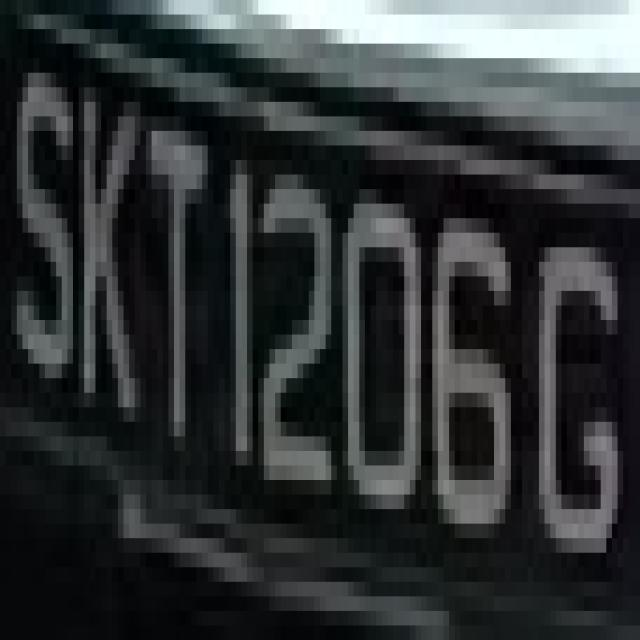0: (320, 146, 421, 538)
1: (208, 102, 280, 567)
2: (264, 146, 348, 524)
6: (410, 204, 522, 596)
G: (522, 218, 634, 567)
K: (73, 73, 152, 480)
S: (11, 29, 84, 466)
T: (152, 58, 219, 480)
